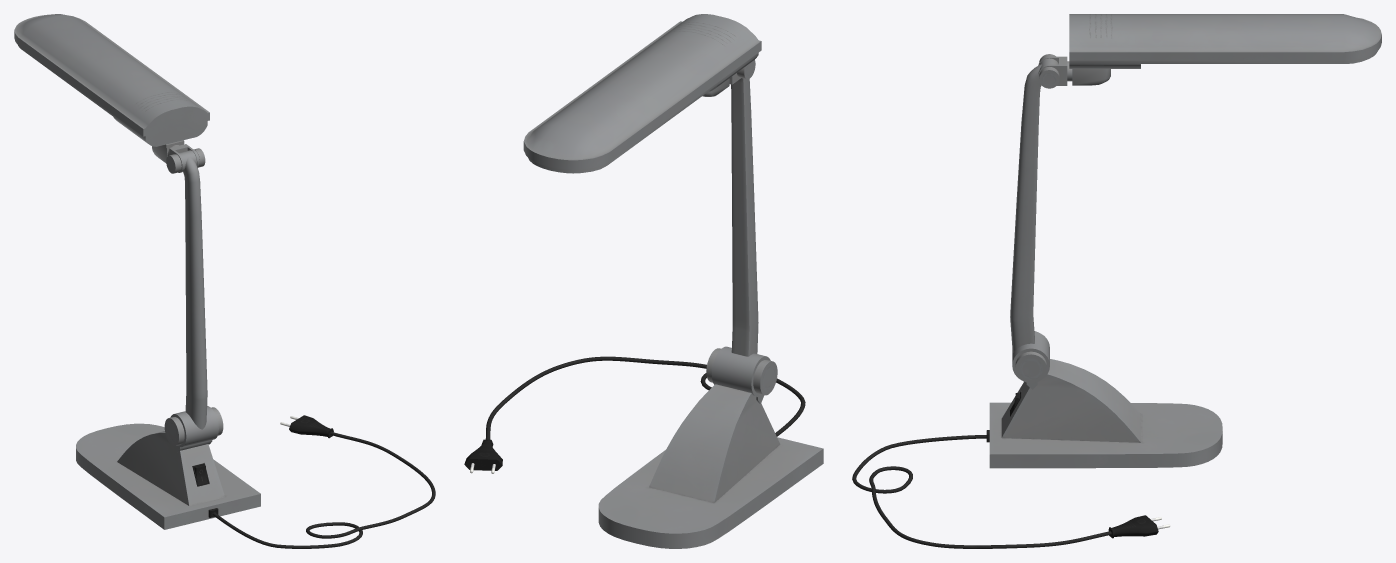
Rendered from table_lamp_low_poly (1).glb.
3 views of the same model, side by side, from view 1: azimuth 30°, elevation 25°; view 2: azimuth 150°, elevation 25°; view 3: azimuth 270°, elevation 25° (orthographic). The views are drawn at different scales.
Visible parts, largest first — view 1: object 11, object 15, object 24, object 16, object 13, object 2, object 12; view 2: object 11, object 15, object 16, object 24, object 13, object 2, object 12, decor_low; view 3: object 11, object 15, object 16, object 24, object 13, decor_001_low, object 12, object 2.
Boxes of the visible parts, x1,y1,x2,y2 form: object 11: (14, 14, 209, 146); object 15: (76, 423, 260, 529); object 24: (183, 157, 207, 429); object 16: (117, 431, 224, 505); object 13: (212, 432, 435, 548); object 2: (170, 406, 218, 447); object 12: (289, 415, 333, 438); object 11: (523, 14, 761, 173); object 15: (598, 437, 823, 548); object 16: (649, 384, 780, 503); object 24: (731, 78, 758, 356); object 13: (485, 356, 805, 439); object 2: (711, 346, 770, 396); object 12: (464, 439, 502, 470); decor_low: (753, 360, 777, 395); object 11: (1069, 14, 1381, 68); object 15: (989, 402, 1222, 468); object 16: (1001, 359, 1140, 442); object 24: (1010, 64, 1041, 352); object 13: (852, 435, 1111, 548); decor_001_low: (1015, 351, 1046, 383); object 12: (1108, 515, 1158, 538); object 2: (1012, 331, 1049, 380).
Bounding box in the file's own units: 31.05 × 45.79 × 51.82.
1 material, 1 textured.
